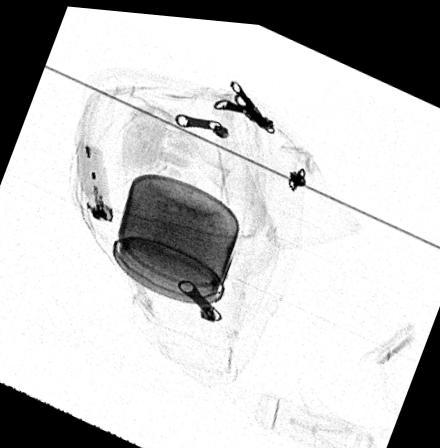Lighter: (78, 142, 116, 221)
